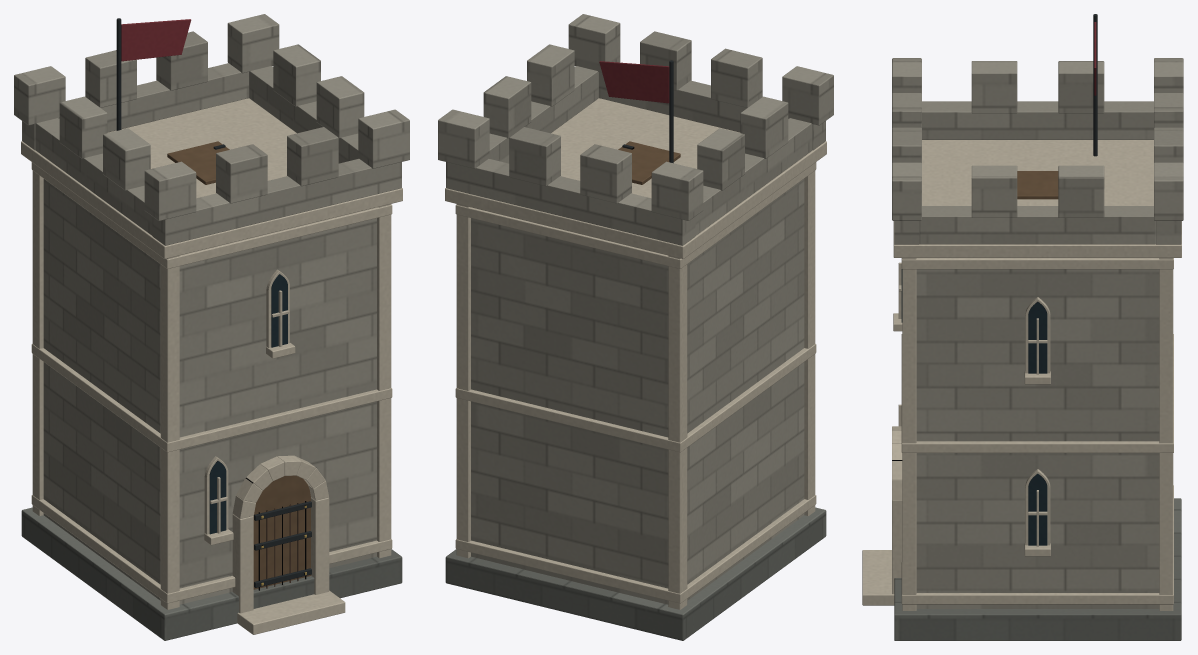
File: Watchtower.fbx
3 views of the same model, side by side, from view 1: azimuth 30°, elevation 25°; view 2: azimuth 150°, elevation 25°; view 3: azimuth 270°, elevation 25° (orthographic).
Visible parts, largest first — view 1: Watchtower.001; view 2: Watchtower.001; view 3: Watchtower.001.
Boxes of the visible parts, bbox=[...] form: Watchtower.001: bbox=[14, 14, 409, 640]; Watchtower.001: bbox=[438, 14, 833, 640]; Watchtower.001: bbox=[862, 14, 1183, 640].
Size of the model in its own units: 4.89 by 9.96 by 5.4.
